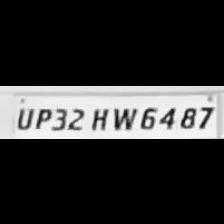2: (65, 104, 85, 130)
3: (51, 104, 67, 130)
4: (158, 103, 176, 129)
6: (136, 103, 158, 129)
7: (195, 104, 213, 128)
8: (177, 104, 195, 128)
H: (88, 104, 110, 130)
P: (33, 104, 51, 130)
U: (11, 103, 33, 129)
W: (111, 103, 135, 129)
